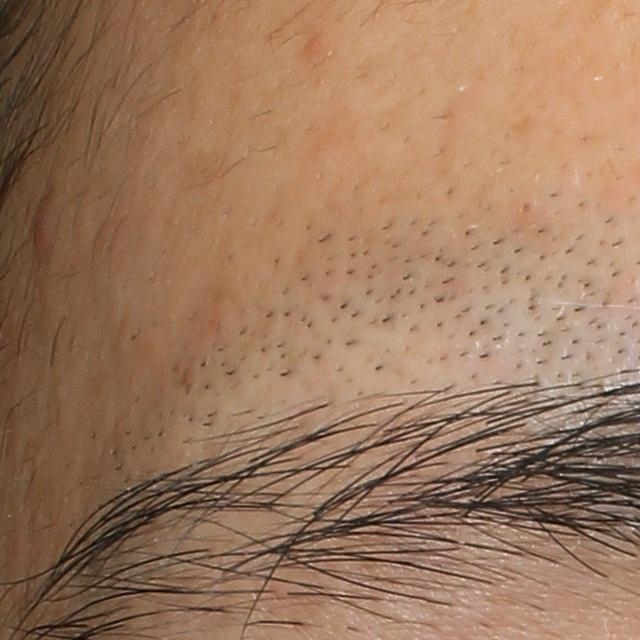papule: (28, 189, 59, 259)
